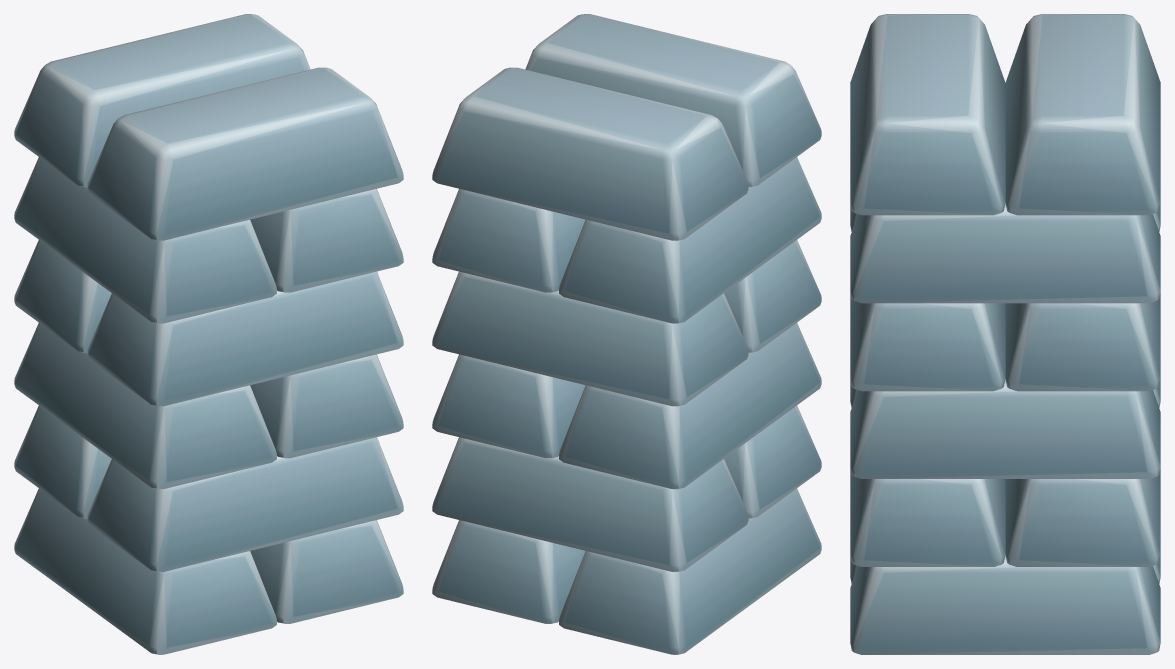
The model's file is silver_bars_stack_medium.glb.
The picture shows the model from 3 angles, left to right: view 1: azimuth 30°, elevation 25°; view 2: azimuth 150°, elevation 25°; view 3: azimuth 270°, elevation 25°; orthographic projection. The views are drawn at different scales.
Visible parts, largest first — view 1: Silver_Bars_Stack_Medium; view 2: Silver_Bars_Stack_Medium; view 3: Silver_Bars_Stack_Medium.
Boxes of the visible parts, x1,y1,x2,y2 form: Silver_Bars_Stack_Medium: (14,14,403,654); Silver_Bars_Stack_Medium: (432,14,821,654); Silver_Bars_Stack_Medium: (850,14,1160,654).
Size of the model in its own units: 0.8001 by 1.5 by 0.8001.
1 material, 1 textured.
